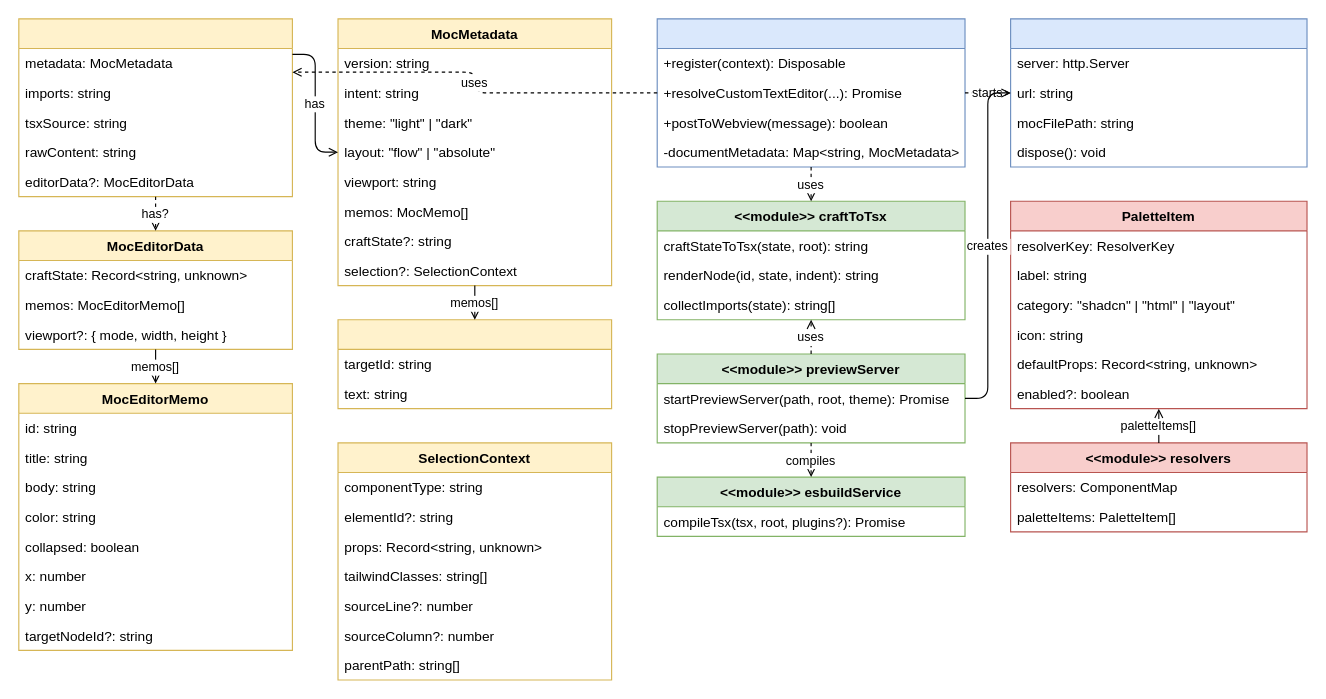
Image size: 1326x699. Some labels were removed from this diagram. Each missing label, with the box of its shape:
MocDocument: (18, 18, 292, 197)
MocEditorProvider: (656, 18, 965, 167)
MocMemo: (337, 319, 612, 409)
PreviewSession: (1009, 18, 1307, 167)
